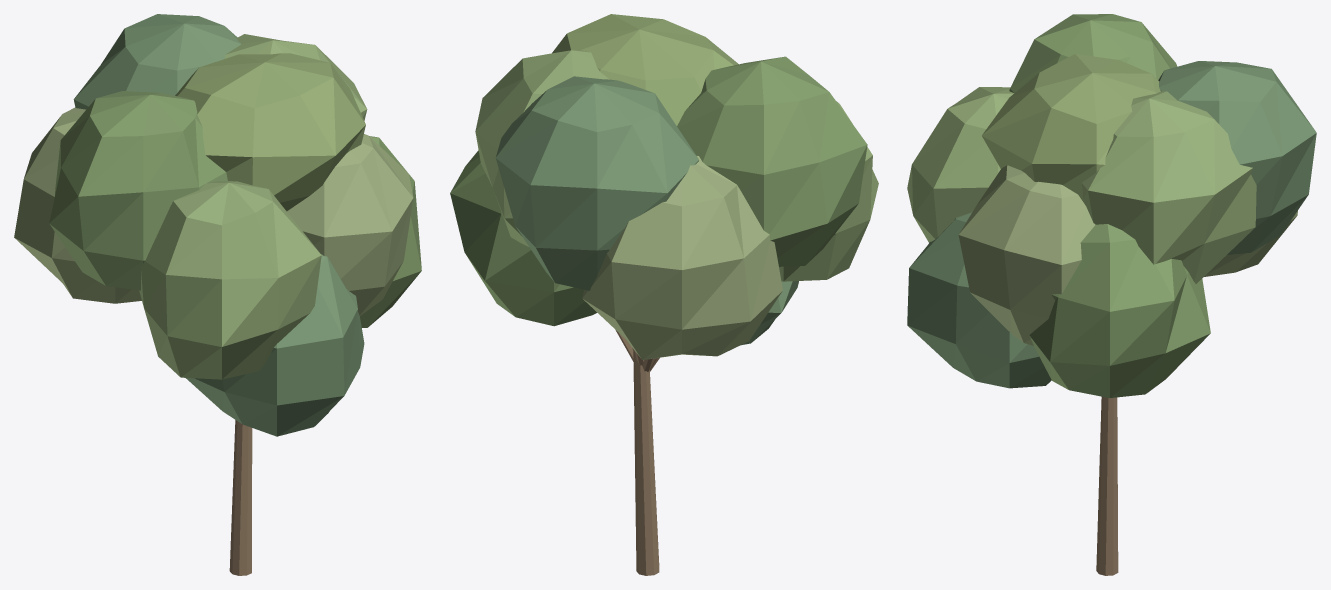
3 renders of one model, left to right at view 1: azimuth 30°, elevation 25°; view 2: azimuth 150°, elevation 25°; view 3: azimuth 270°, elevation 25°, orthographic. The views are drawn at different scales.
Size of the model in its own units: 9.57 by 12.85 by 9.42.
